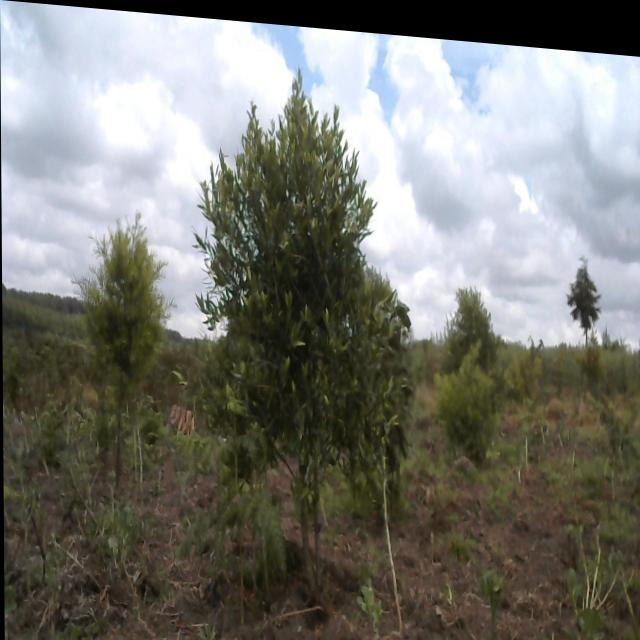Podocarpus falcatus: (81, 205, 175, 480), (438, 349, 503, 458)
cedrus: (570, 231, 601, 341)
other: (190, 69, 408, 569)
